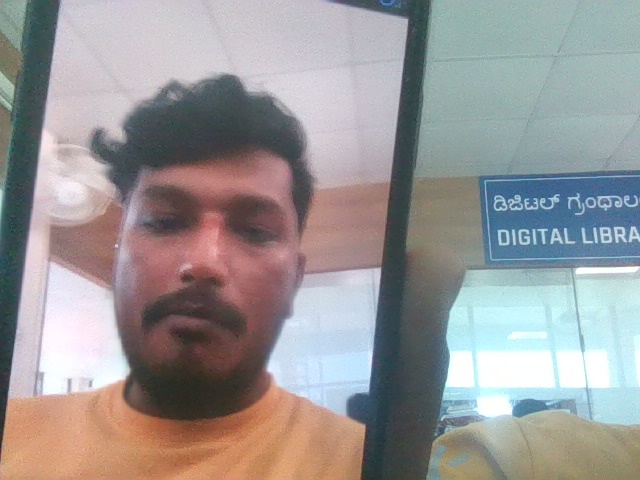fake: (77, 65, 325, 416)
